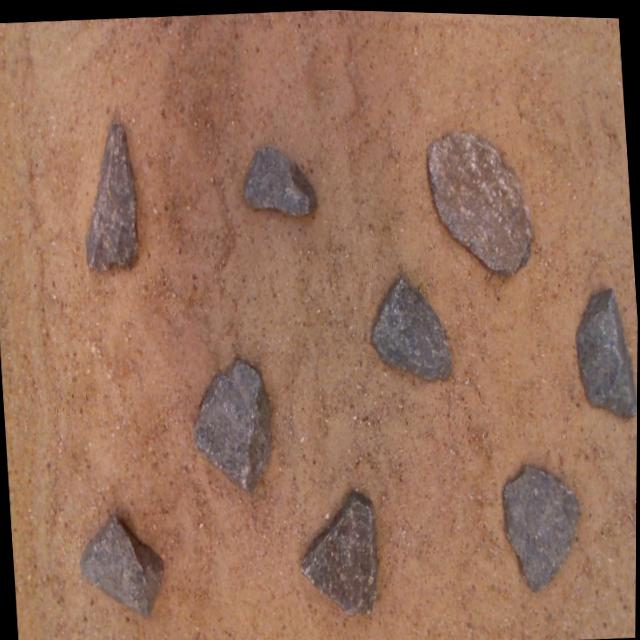rock: (427, 129, 531, 270), (192, 359, 270, 490), (503, 463, 578, 588), (301, 489, 376, 611), (79, 516, 162, 616), (371, 276, 451, 376), (575, 285, 635, 413), (85, 122, 136, 270), (243, 145, 315, 213)
